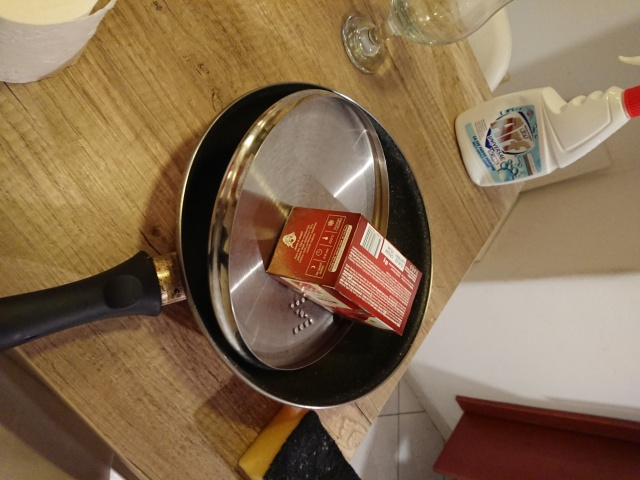Franck Apple Cinnamon Tea 60g: (262, 203, 426, 339)
